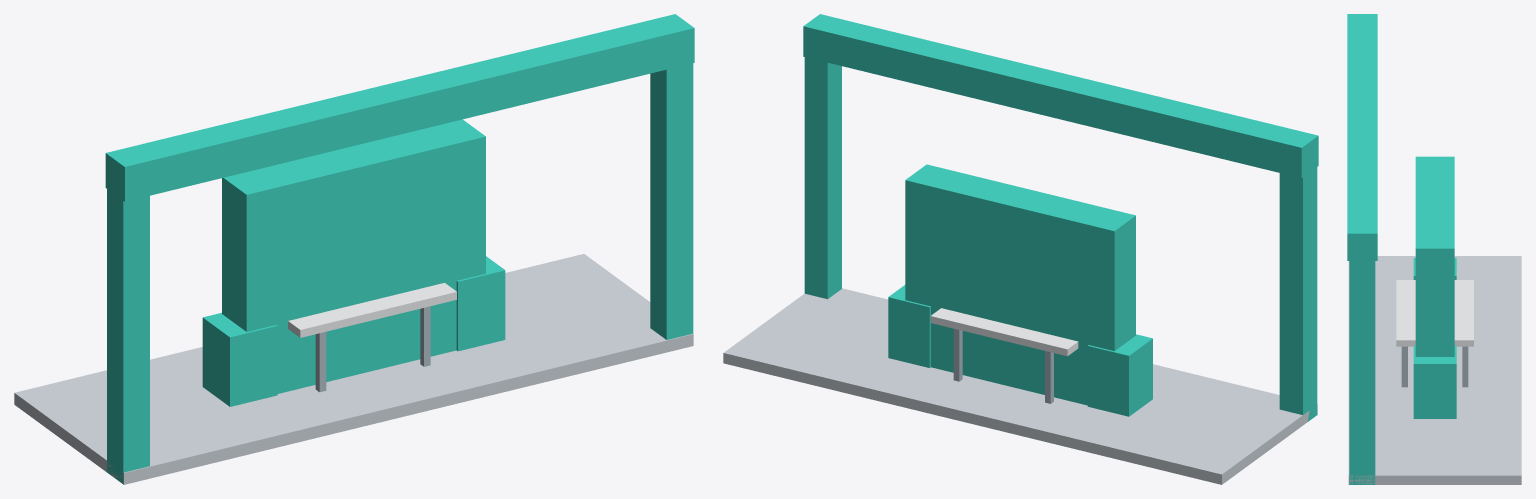
The picture shows the model from 3 angles, left to right: view 1: azimuth 30°, elevation 25°; view 2: azimuth 150°, elevation 25°; view 3: azimuth 270°, elevation 25°; orthographic projection. The views are drawn at different scales.
Parts seen in each view (by area): view 1: Exhibition Booth Concept; view 2: Exhibition Booth Concept; view 3: Exhibition Booth Concept.
Part boxes in pixels (box(x1,y1,x2,y2)): Exhibition Booth Concept: box(14, 14, 694, 484); Exhibition Booth Concept: box(723, 14, 1318, 484); Exhibition Booth Concept: box(1347, 14, 1521, 484).
Bounding box in the file's own units: 6 × 3.2 × 2.01.
